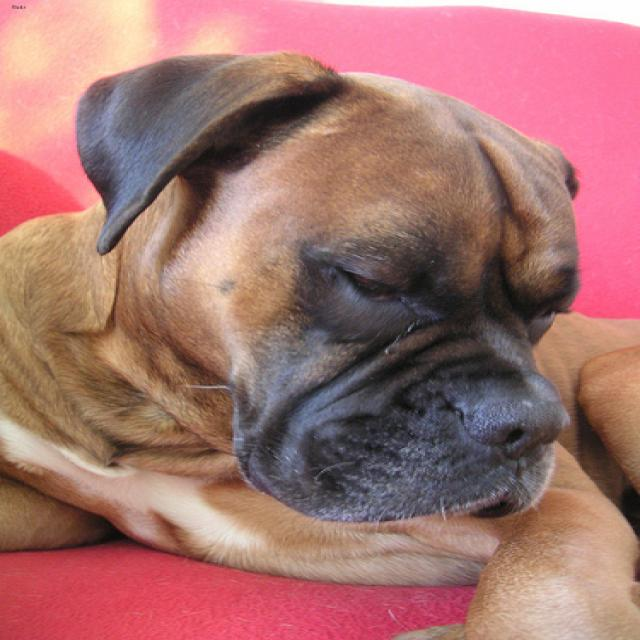dog-boxer: (2, 37, 637, 637)
